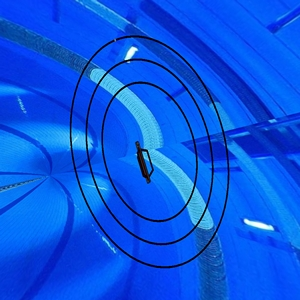circle: (65, 31, 241, 271)
submarine: (130, 140, 159, 187)
